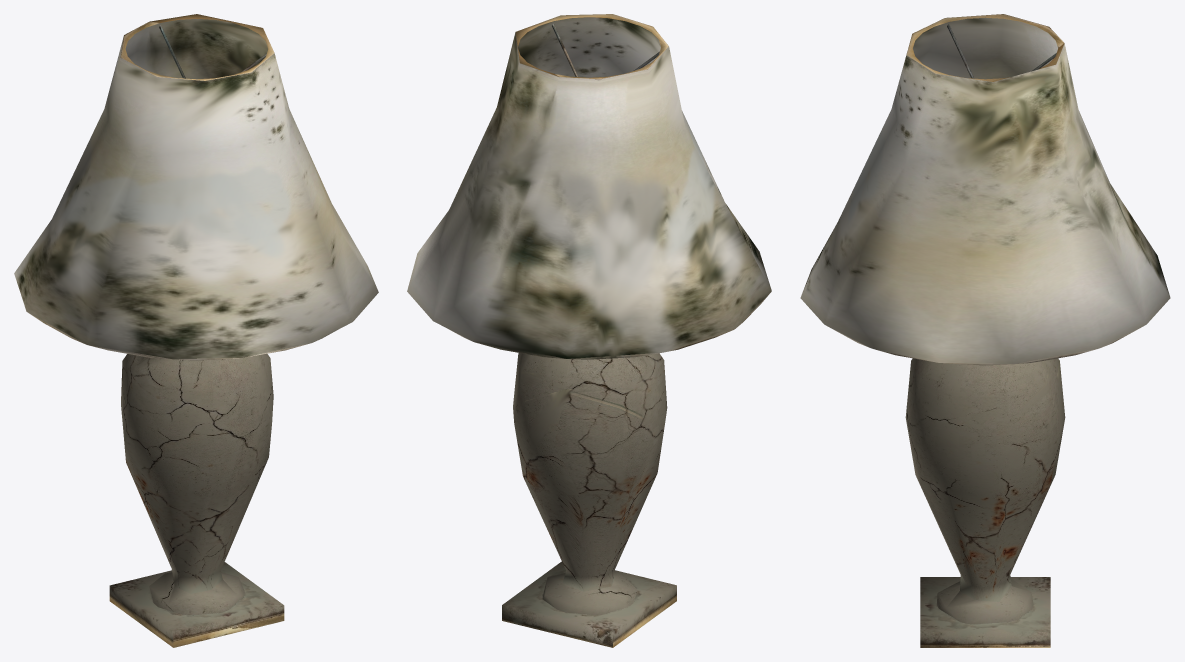
The model's file is BrknLamp.fbx.
The picture shows the model from 3 angles, left to right: view 1: azimuth 30°, elevation 25°; view 2: azimuth 150°, elevation 25°; view 3: azimuth 270°, elevation 25°; orthographic projection.
Parts seen in each view (by area): view 1: c3c1aaa39efd442bba6bccd21ec33c14.obj; view 2: c3c1aaa39efd442bba6bccd21ec33c14.obj; view 3: c3c1aaa39efd442bba6bccd21ec33c14.obj.
Part boxes in pixels (<box>): c3c1aaa39efd442bba6bccd21ec33c14.obj: <box>14,14,378,647</box>; c3c1aaa39efd442bba6bccd21ec33c14.obj: <box>407,14,771,647</box>; c3c1aaa39efd442bba6bccd21ec33c14.obj: <box>800,14,1170,647</box>.
Bounding box in the file's own units: 32.68 × 55.82 × 32.67.
Materials: 1 (1 with a texture image).
